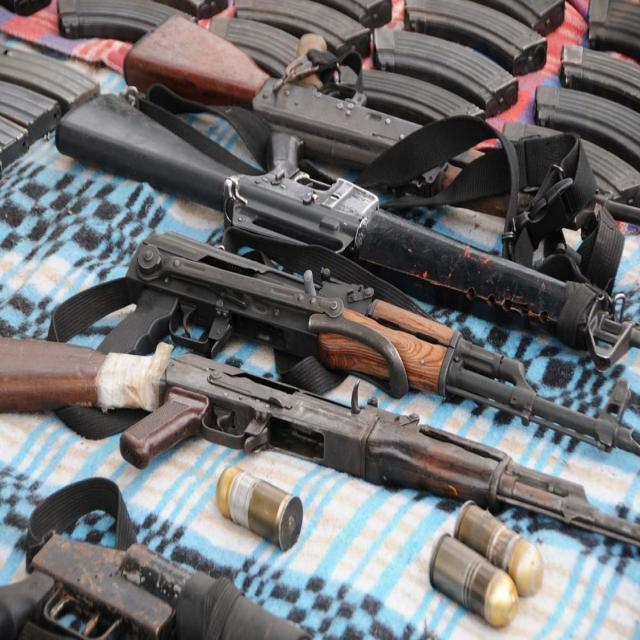firearm: (62, 94, 640, 361), (1, 336, 621, 544), (98, 232, 640, 457), (128, 10, 458, 186), (4, 524, 310, 640)
grenade: (209, 458, 304, 553), (428, 526, 510, 630), (454, 489, 549, 578)
